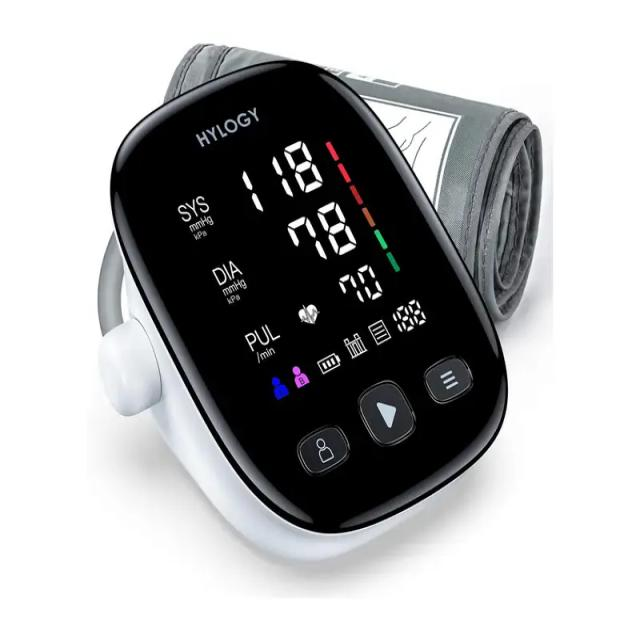dia: (279, 194, 364, 275)
pul: (329, 255, 391, 316)
ssd: (158, 118, 407, 388)
sys: (226, 132, 330, 223)
